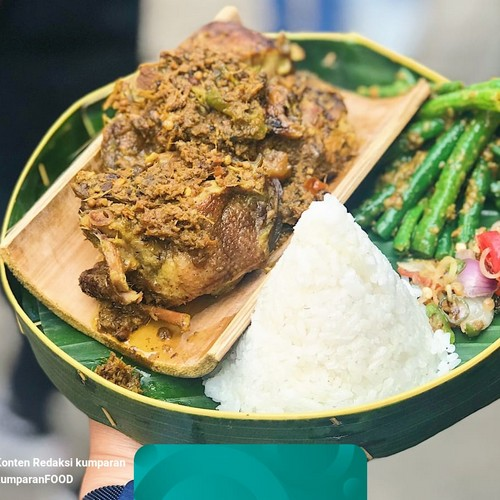bebek timbungan: (102, 19, 264, 312)
